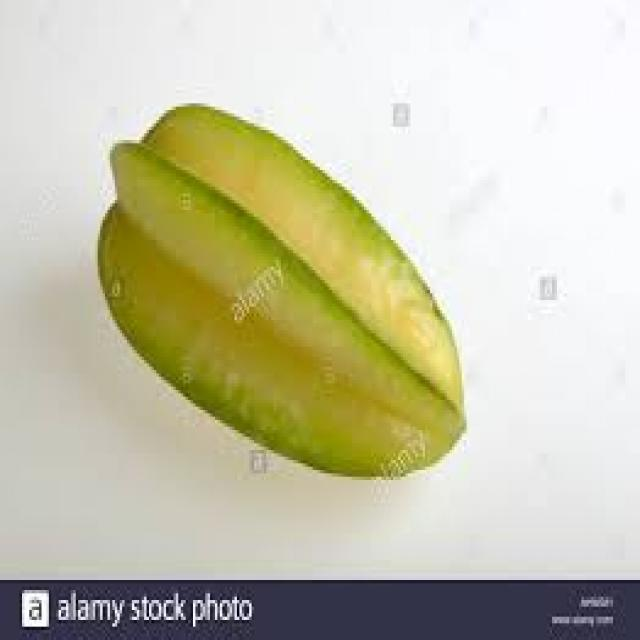organic waste: (95, 100, 467, 477)
